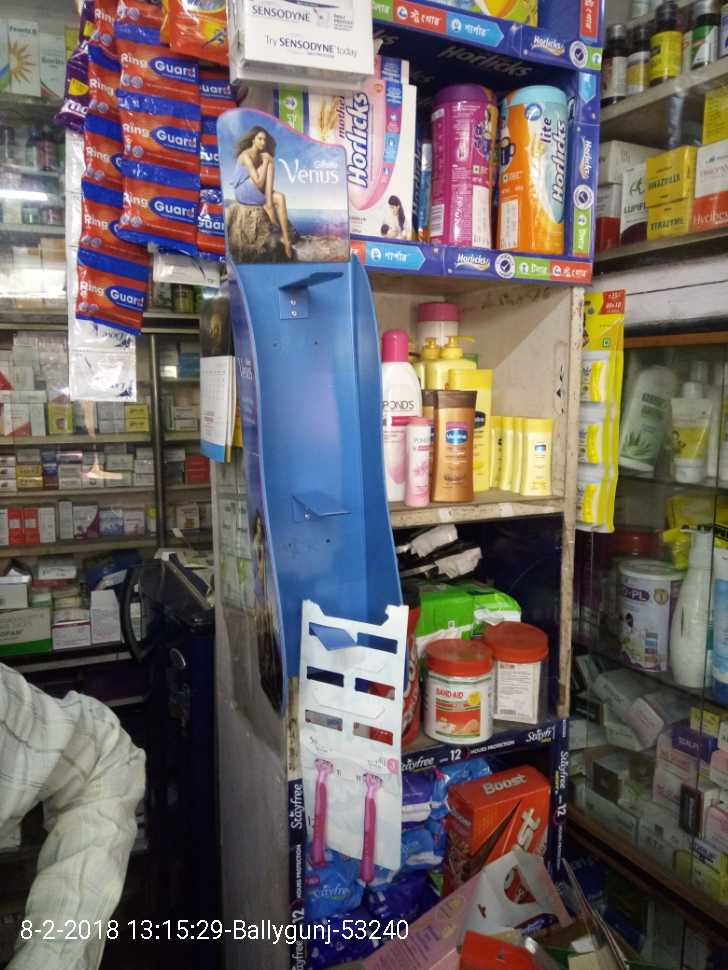reject: (285, 331, 447, 497)
